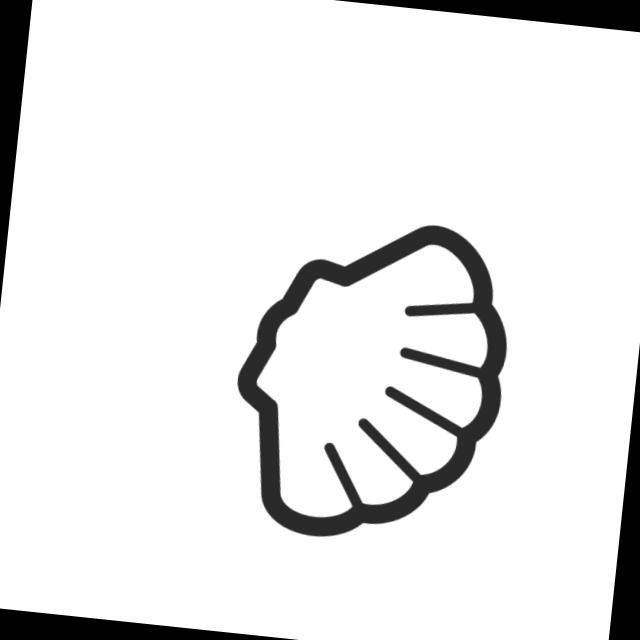shell: (213, 200, 527, 565)
